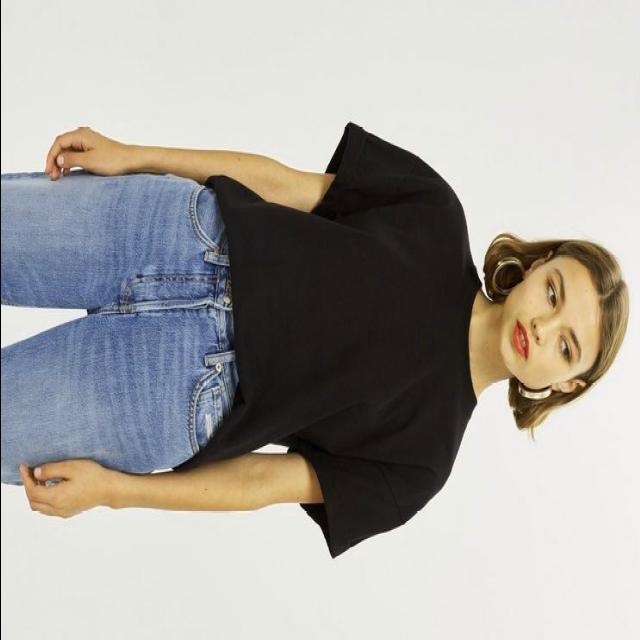shoulder: (386, 167, 472, 520)
